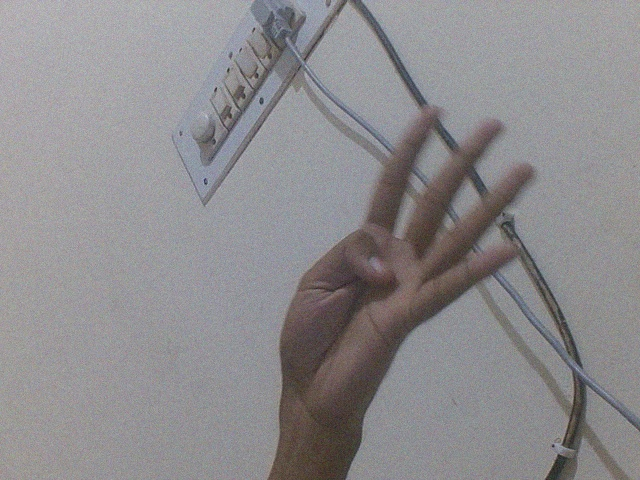hand: (273, 98, 539, 436)
